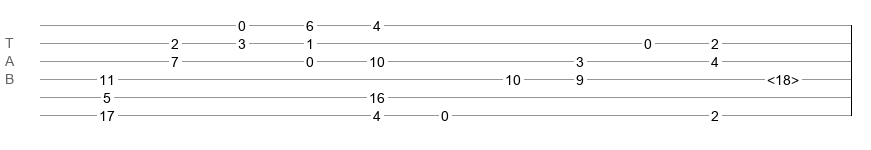0: (238, 18, 246, 28), (306, 54, 314, 64), (441, 108, 449, 118), (644, 36, 652, 46)
1: (306, 36, 314, 46)
10: (369, 54, 385, 64), (505, 72, 521, 82)
11: (99, 72, 115, 82)
16: (369, 90, 385, 100)
17: (99, 108, 115, 118)
2: (171, 36, 179, 46), (711, 108, 719, 118), (711, 36, 719, 46)
3: (238, 36, 246, 46), (576, 54, 584, 64)
4: (373, 108, 381, 118), (373, 18, 381, 28), (711, 54, 719, 64)
5: (103, 90, 111, 100)
6: (306, 18, 314, 28)
7: (171, 54, 179, 64)
9: (576, 72, 584, 82)
harmonic: (767, 72, 799, 82)
